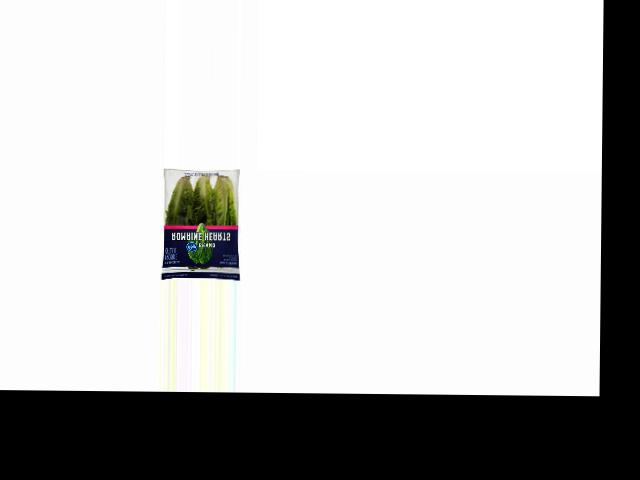lettuce: (158, 171, 244, 278)
